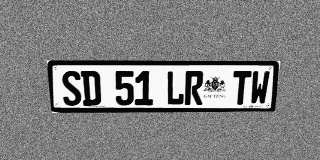1: (134, 71, 153, 105)
5: (115, 71, 134, 105)
D: (81, 71, 101, 106)
L: (166, 71, 185, 105)
R: (185, 71, 204, 105)
S: (61, 71, 82, 106)
T: (231, 71, 252, 105)
W: (249, 71, 270, 105)
